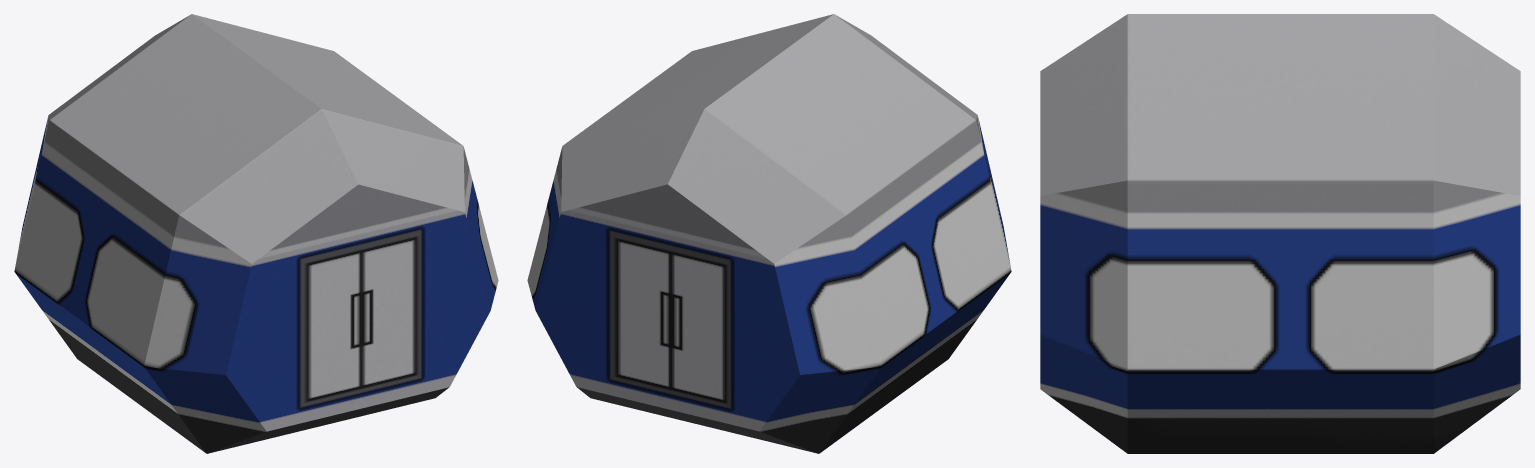
The model's file is Snake_Corps.FBX.
3 views of the same model, side by side, from view 1: azimuth 30°, elevation 25°; view 2: azimuth 150°, elevation 25°; view 3: azimuth 270°, elevation 25° (orthographic). The views are drawn at different scales.
Parts seen in each view (by area): view 1: Snake_Corps; view 2: Snake_Corps; view 3: Snake_Corps.
Part boxes in pixels (x1=…): Snake_Corps: x1=14, y1=14, x2=498, y2=453; Snake_Corps: x1=527, y1=14, x2=1011, y2=453; Snake_Corps: x1=1040, y1=14, x2=1520, y2=453.
Size of the model in its own units: 0.8711 by 0.7447 by 0.866.
